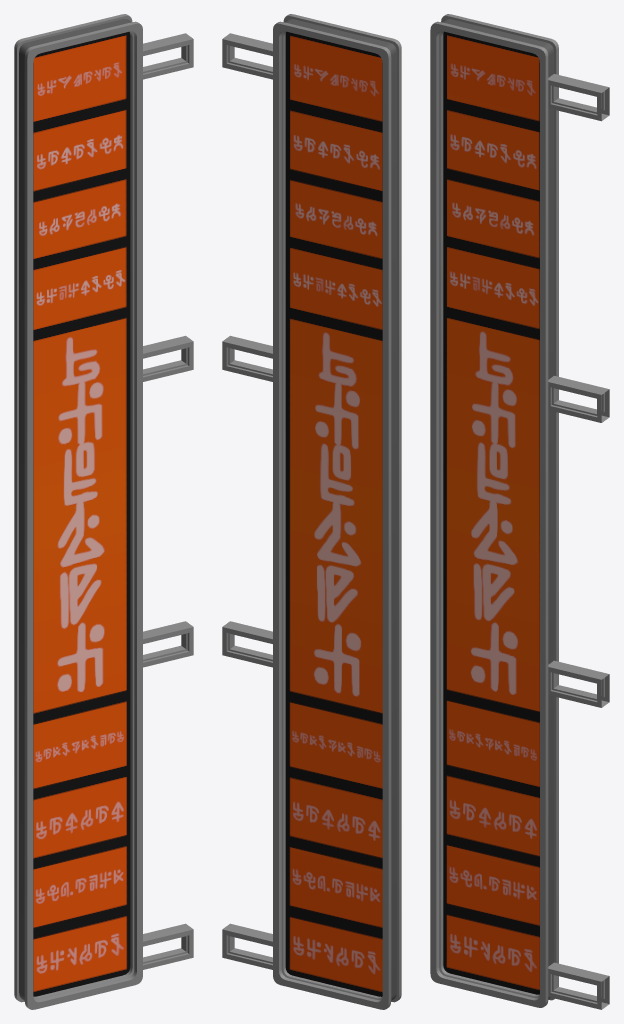
The picture shows the model from 3 angles, left to right: view 1: azimuth 30°, elevation 25°; view 2: azimuth 150°, elevation 25°; view 3: azimuth 330°, elevation 25°; orthographic projection.
Visible parts, largest first — view 1: MS_8M_2; view 2: MS_8M_2; view 3: MS_8M_2.
Part boxes in pixels (left/top/right/bottom): MS_8M_2: left=14, top=14, right=193, bottom=1009; MS_8M_2: left=222, top=14, right=401, bottom=1009; MS_8M_2: left=430, top=14, right=609, bottom=1009.
Size of the model in its own units: 147 by 800 by 19.93.
